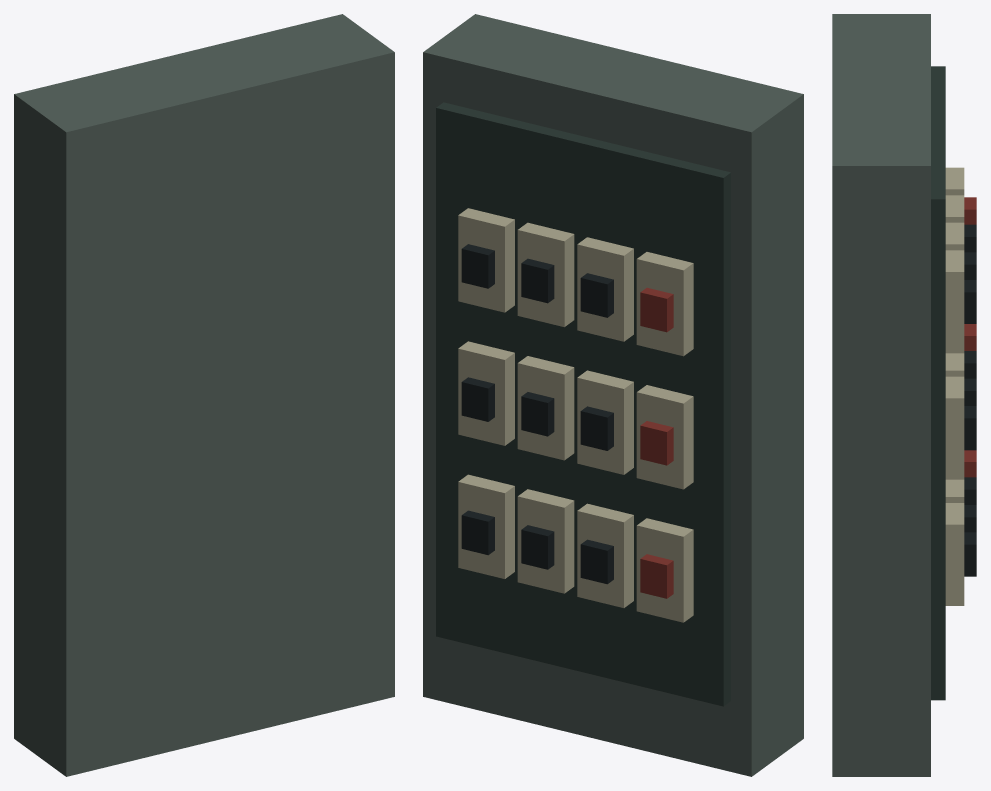
The model's file is breaker_panel.glb.
The picture shows the model from 3 angles, left to right: view 1: azimuth 30°, elevation 25°; view 2: azimuth 150°, elevation 25°; view 3: azimuth 270°, elevation 25°; orthographic projection. The views are drawn at different scales.
Parts seen in each view (by area): view 1: breaker_panel; view 2: breaker_panel; view 3: breaker_panel.
Boxes of the visible parts, x1,y1,x2,y2 form: breaker_panel: (14,14,394,776); breaker_panel: (423,14,803,776); breaker_panel: (832,14,976,776).
Size of the model in its own units: 0.8 by 1.5 by 0.3215.
